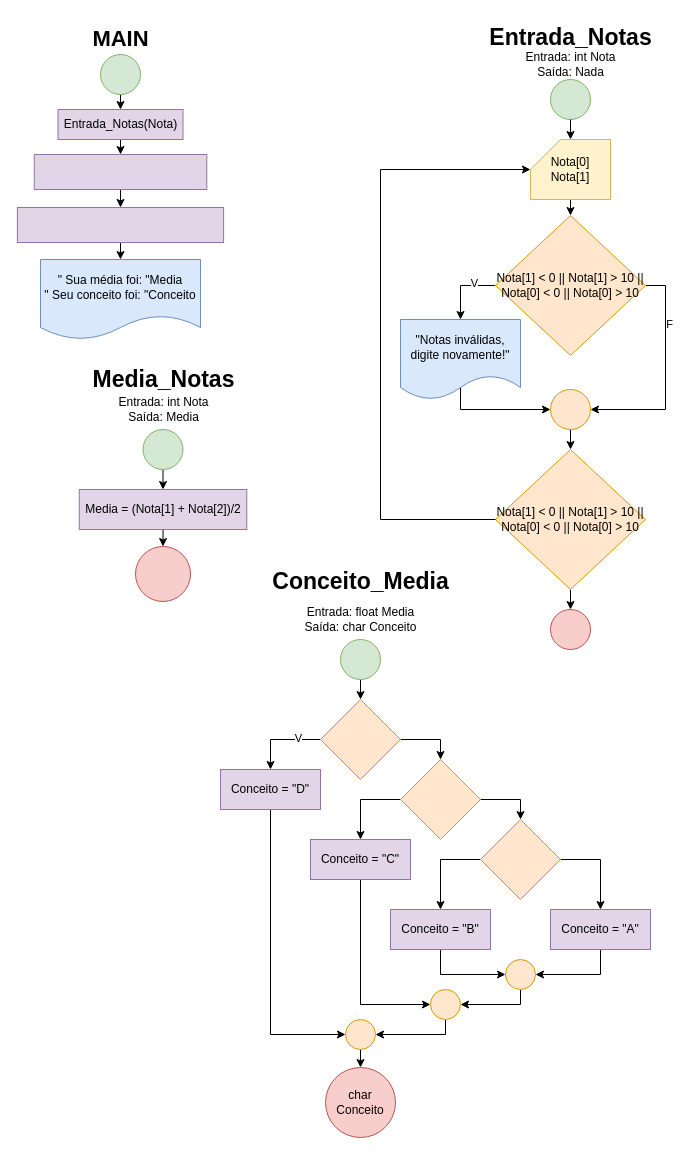
The diagram is 692 pixels wide and 1155 high, and some of its shapes have lost their labels. Each missing label, with the centre of its shape:
Conceito = Conceito_Media(Media): (120,224)
float Media: (162,574)
Media < 5: (360,739)
Media < 7: (440,799)
Media < 9: (520,859)
Media = Media_Notas(Notas): (120,172)
